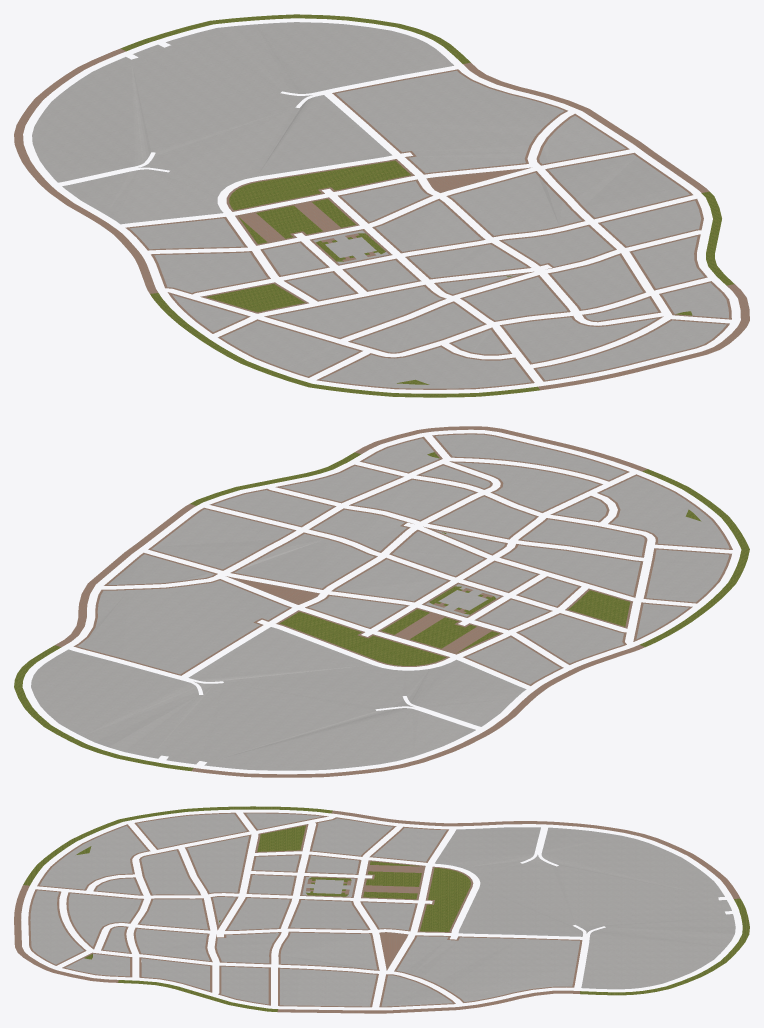
The model's file is Tiles.fbx.
3 renders of one model, top to bottom at view 1: azimuth 30°, elevation 25°; view 2: azimuth 150°, elevation 25°; view 3: azimuth 270°, elevation 25°, orthographic. The views are drawn at different scales.
Visible parts, largest first — view 1: Line110; view 2: Line110; view 3: Line110.
Boxes of the visible parts, box(x1,y1,x2,y2) form: Line110: box(14, 14, 749, 397); Line110: box(14, 426, 749, 777); Line110: box(14, 806, 749, 1013).
Bounding box in the file's own units: 681 × 3.87 × 1028.
3 materials, 3 textured.
